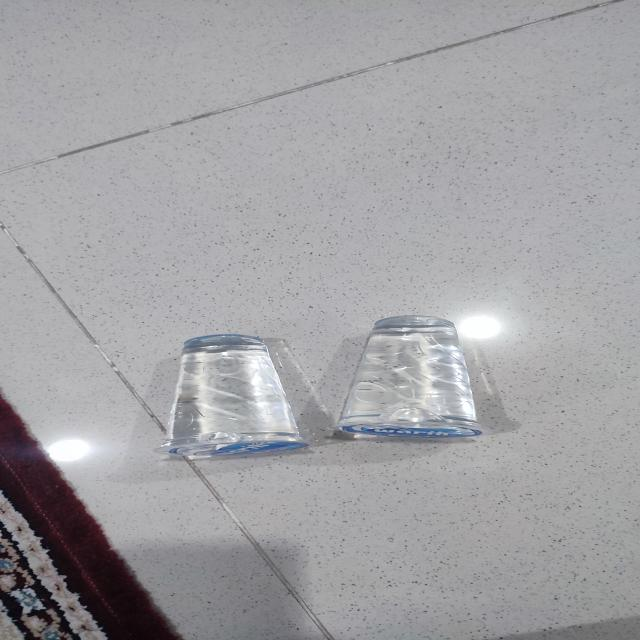air gelas: (325, 314, 491, 444), (150, 333, 315, 458)
